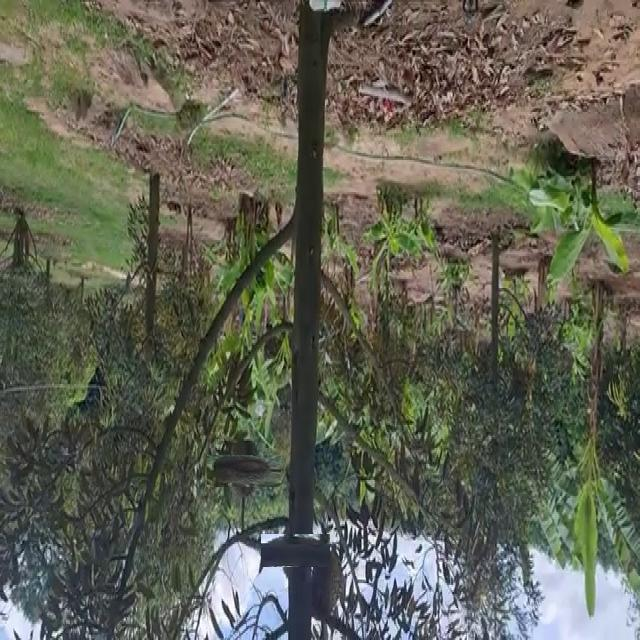durian: (307, 547, 344, 625), (217, 444, 270, 498), (270, 525, 321, 576)
